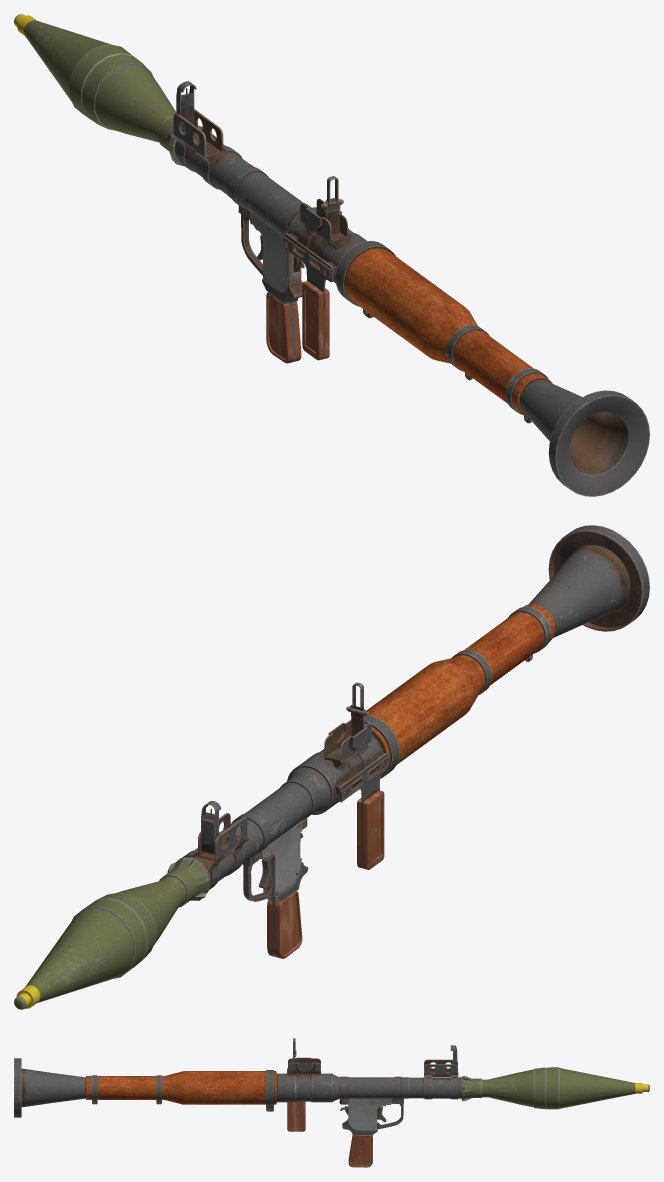
The model's file is rpg7.glb.
3 renders of one model, top to bottom at view 1: azimuth 30°, elevation 25°; view 2: azimuth 150°, elevation 25°; view 3: azimuth 270°, elevation 25°, orthographic. The views are drawn at different scales.
Visible parts, largest first — view 1: rpg7_body, rocket; view 2: rpg7_body, rocket; view 3: rpg7_body, rocket.
Boxes of the visible parts, x1,y1,x2,y2 form: rpg7_body: (171,81,649,496); rocket: (14,14,202,166); rpg7_body: (182,525,649,958); rocket: (14,857,210,1009); rpg7_body: (14,1038,461,1167); rocket: (461,1067,649,1109).
Bounding box in the file's own units: 0.126 × 0.2896 × 1.35.
2 materials, 2 textured.
